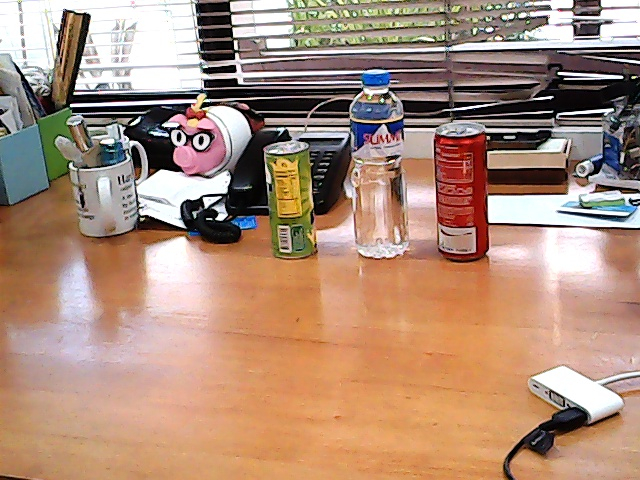Cola: (436, 122, 488, 261)
Pine Juice: (268, 140, 314, 262)
Summit Water: (350, 69, 408, 261)
